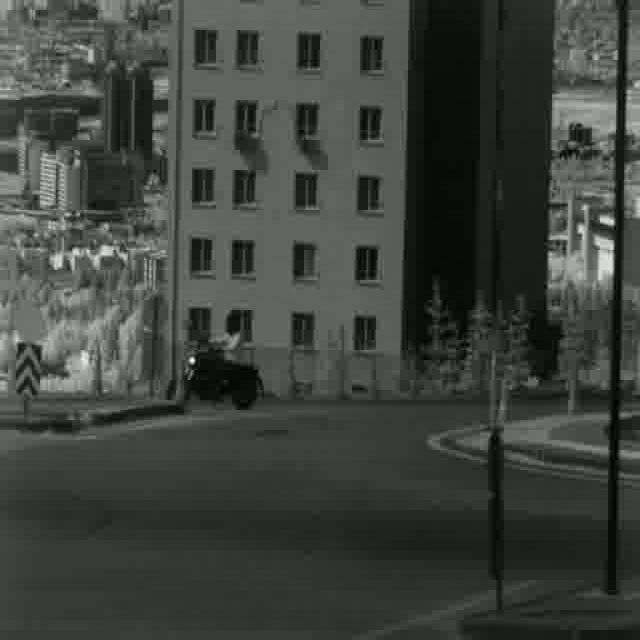Motorcycle: (170, 312, 264, 403)
